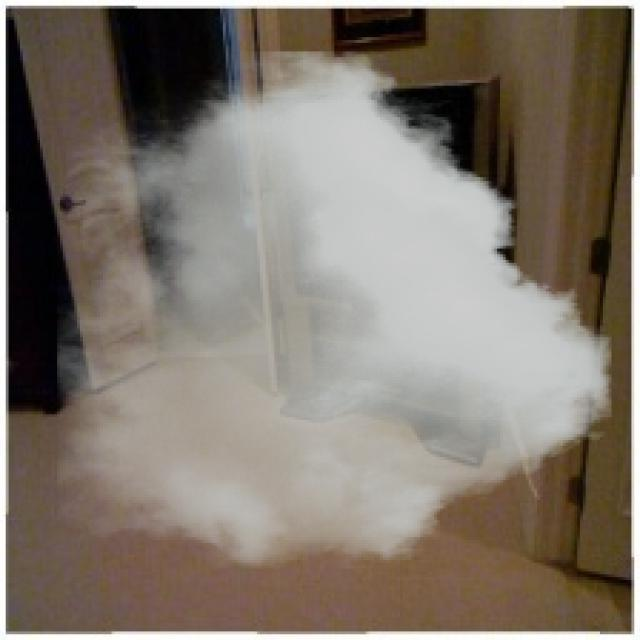Smoke: (57, 51, 612, 568)
